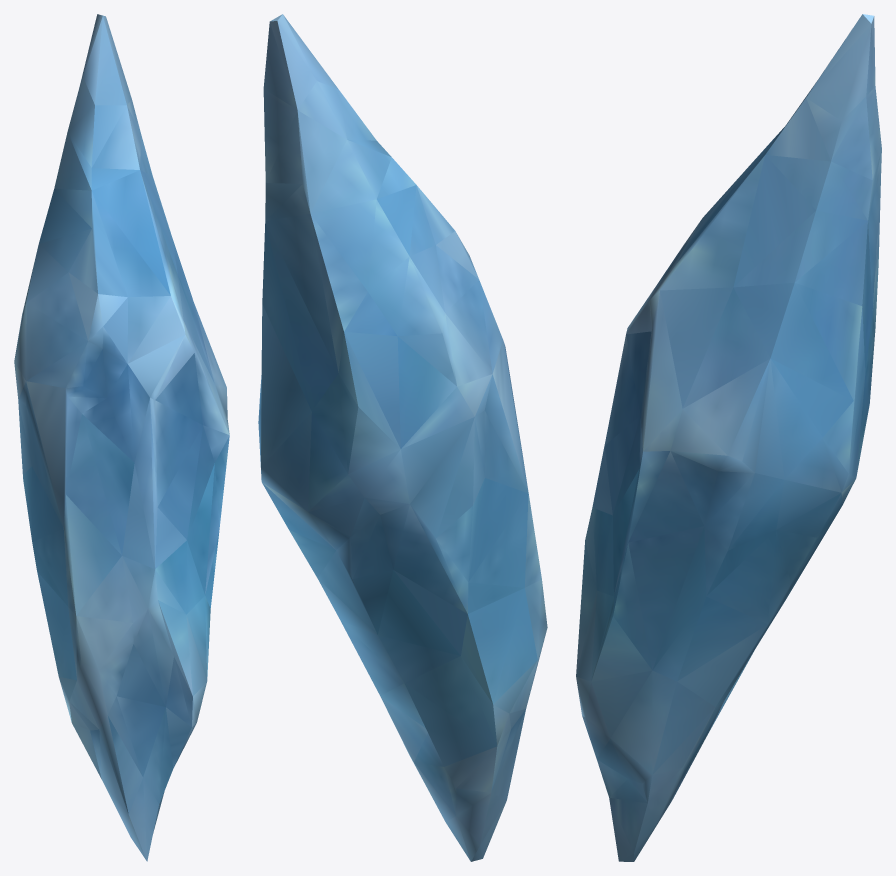
The model's file is esquirla_hielo.glb.
3 views of the same model, side by side, from view 1: azimuth 30°, elevation 25°; view 2: azimuth 150°, elevation 25°; view 3: azimuth 270°, elevation 25° (orthographic). The views are drawn at different scales.
Visible parts, largest first — view 1: esquirla_hielo_malla; view 2: esquirla_hielo_malla; view 3: esquirla_hielo_malla.
Part boxes in pixels (<box>): esquirla_hielo_malla: <box>14,14,229,861</box>; esquirla_hielo_malla: <box>258,14,547,861</box>; esquirla_hielo_malla: <box>576,14,881,861</box>.
Bounding box in the file's own units: 0.0835 × 0.3116 × 0.098.
Materials: 1 (1 with a texture image).
